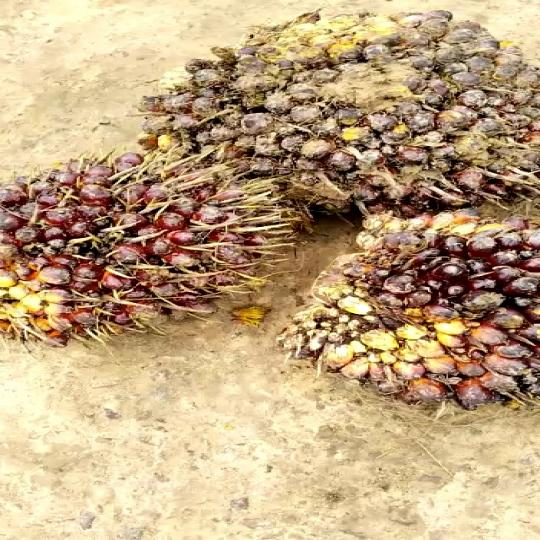kurang masak: (142, 0, 540, 220), (0, 132, 301, 364), (271, 208, 540, 412)
